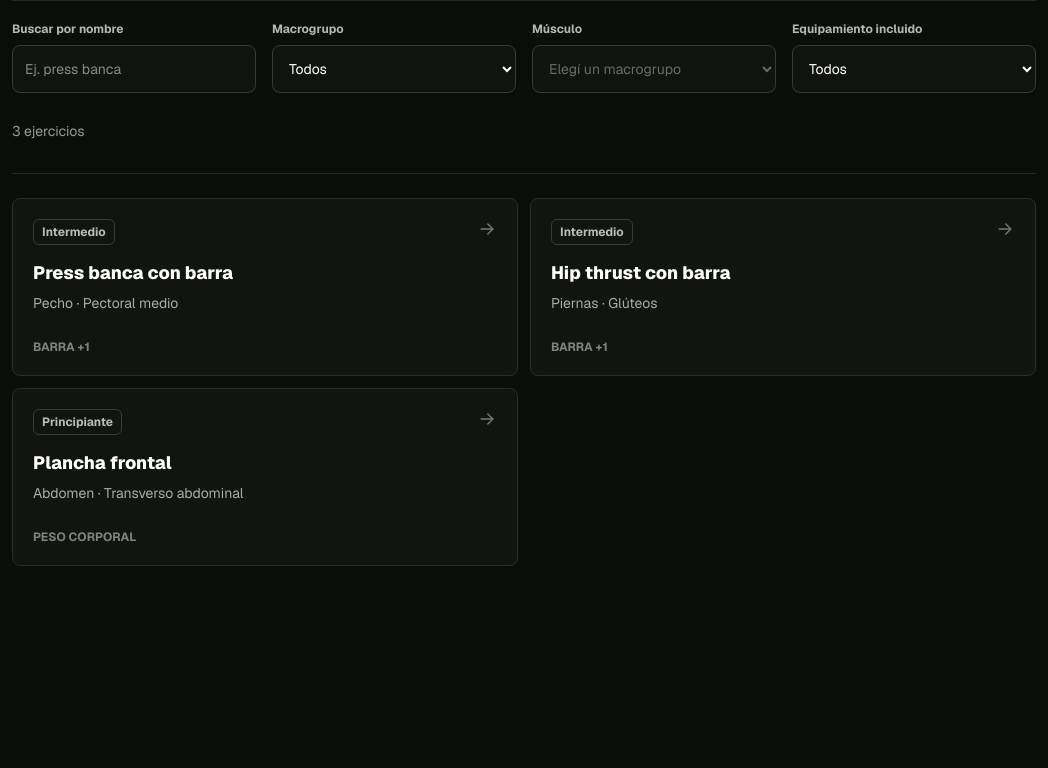
Test: ExerciseLibrary › limpia todos los filtros
Type "plancha" into the search field labelled "Buscar por nombre" at x=134, y=69, box [12,45,256,93]
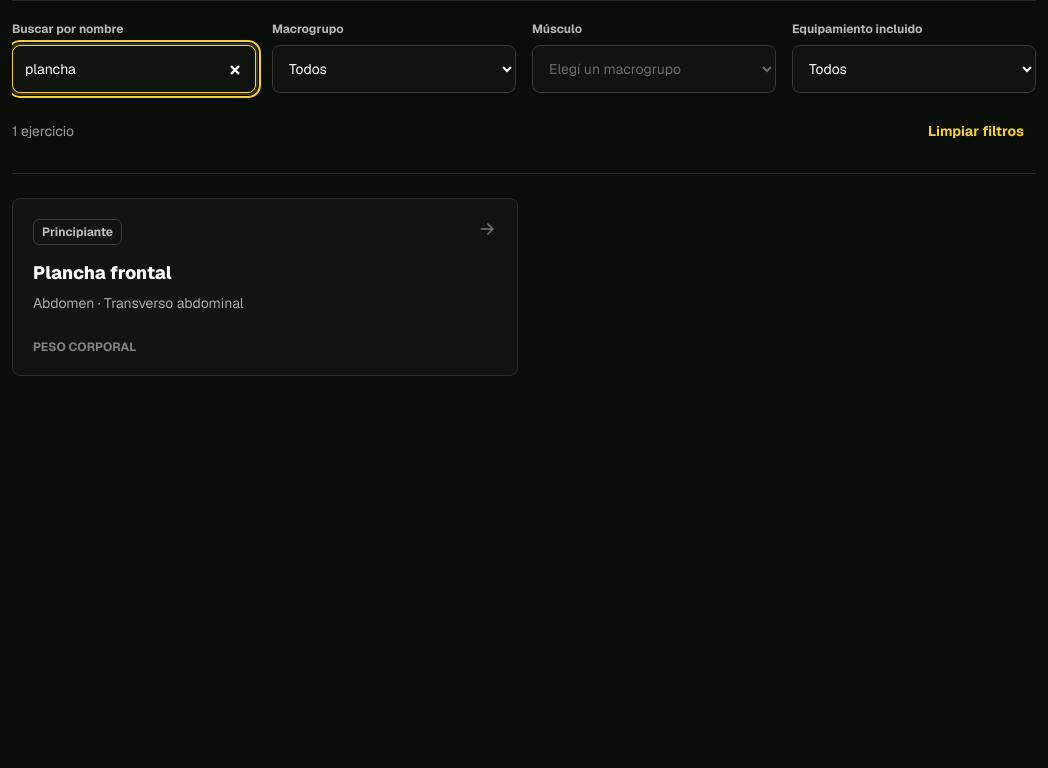
Click the button "Limpiar filtros" at x=976, y=131, box [916,109,1036,153]
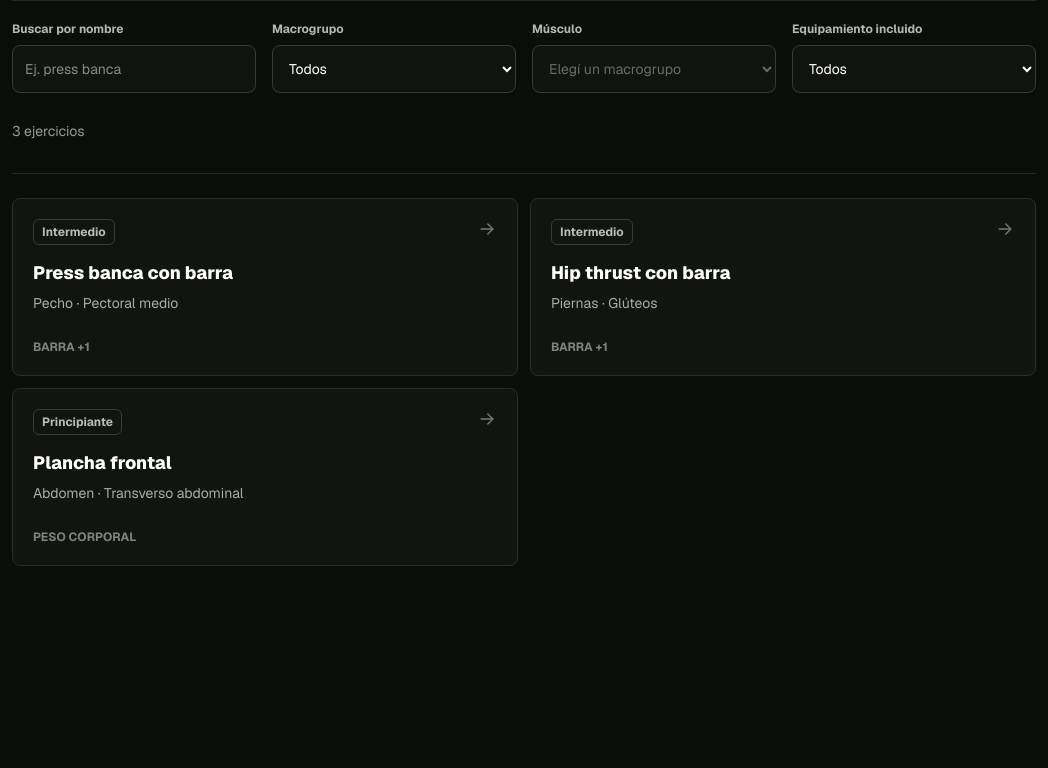
Check: the text "3 ejercicios" is shown, box [12,121,84,141]
Check: the search field labelled "Buscar por nombre" is empty, box [12,45,256,93]
